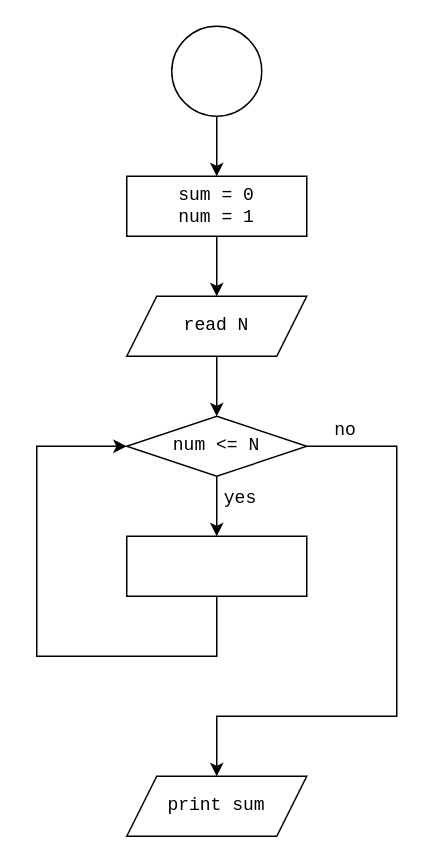
The diagram is 435 pixels wide and 863 high, and some of its shapes have lost their labels. The shapes that lost their labels are listed below. From the top down, each one's box as (x1, y1, x2, y2) in pixels, then its label:
(170, 25, 262, 116): Start
(125, 535, 307, 596): sum = sum + num num = num + 1
